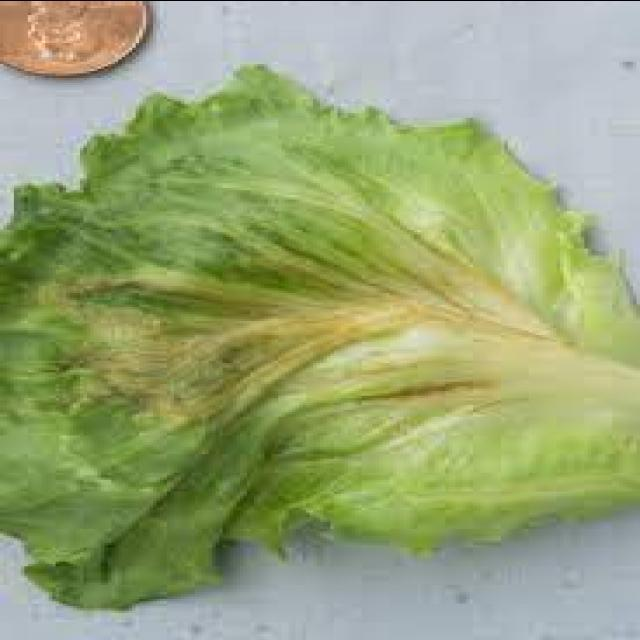Lettuce: (0, 60, 640, 615)
